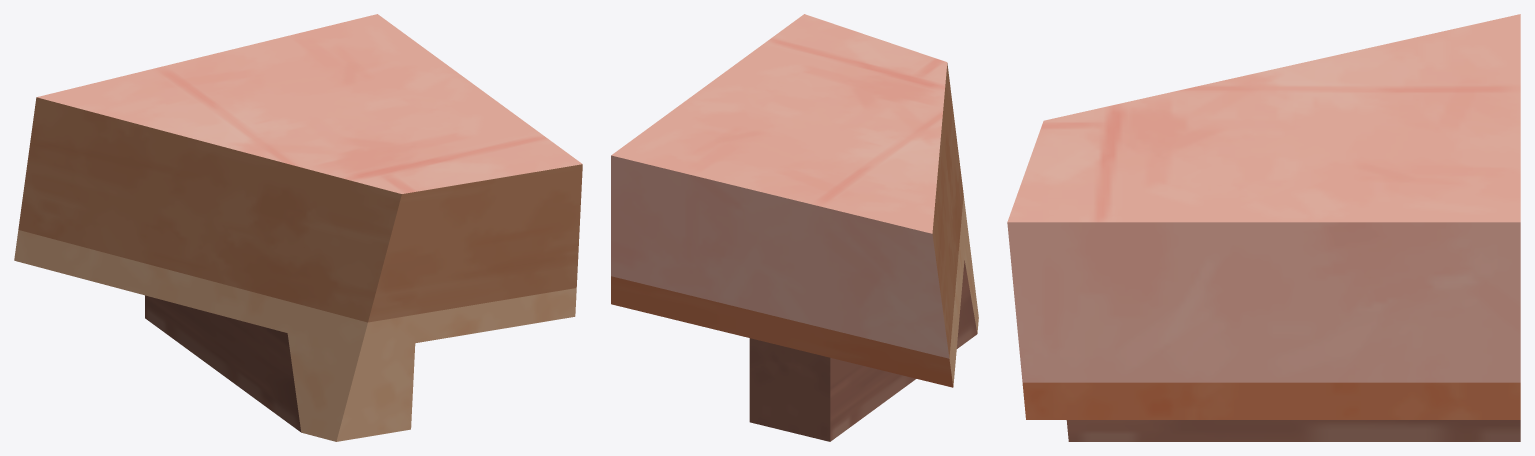
File: floor_s05.fbx
3 views of the same model, side by side, from view 1: azimuth 30°, elevation 25°; view 2: azimuth 150°, elevation 25°; view 3: azimuth 270°, elevation 25° (orthographic). The views are drawn at different scales.
Parts seen in each view (by area): view 1: floor_s05; view 2: floor_s05; view 3: floor_s05.
Part boxes in pixels (x1=…): floor_s05: x1=14, y1=14, x2=582, y2=441; floor_s05: x1=611, y1=14, x2=978, y2=441; floor_s05: x1=1007, y1=14, x2=1520, y2=441.
Size of the model in its own units: 2.55 by 1.66 by 2.49.
